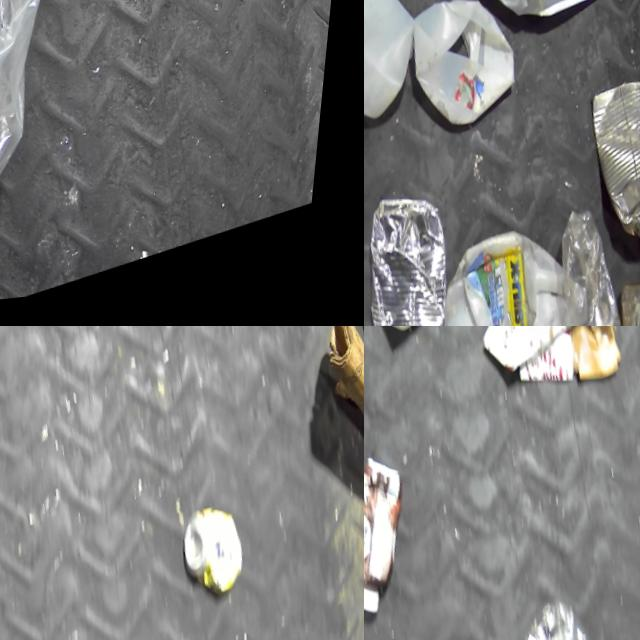can: (364, 185, 481, 326), (572, 64, 640, 278), (364, 82, 405, 326), (178, 508, 261, 616)
milk_jug: (419, 213, 621, 326), (398, 0, 536, 151), (364, 0, 440, 154), (462, 0, 622, 52)
plastic_bottle: (535, 198, 640, 326), (494, 584, 640, 640)
